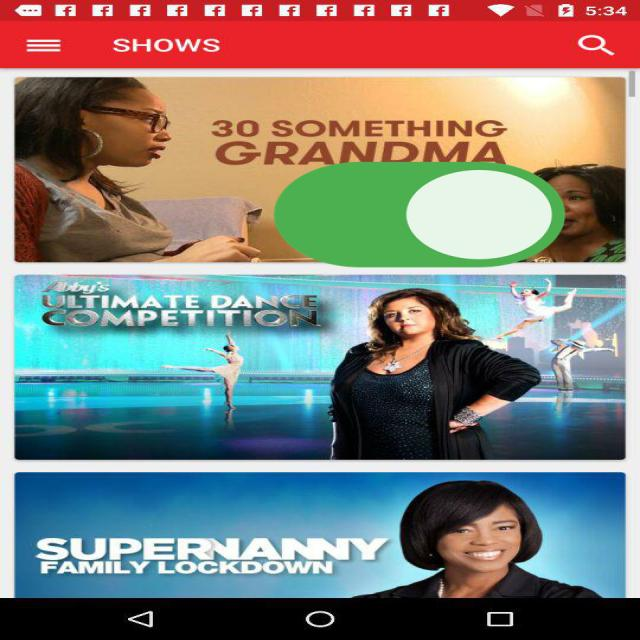social proof: (261, 121, 578, 316)
